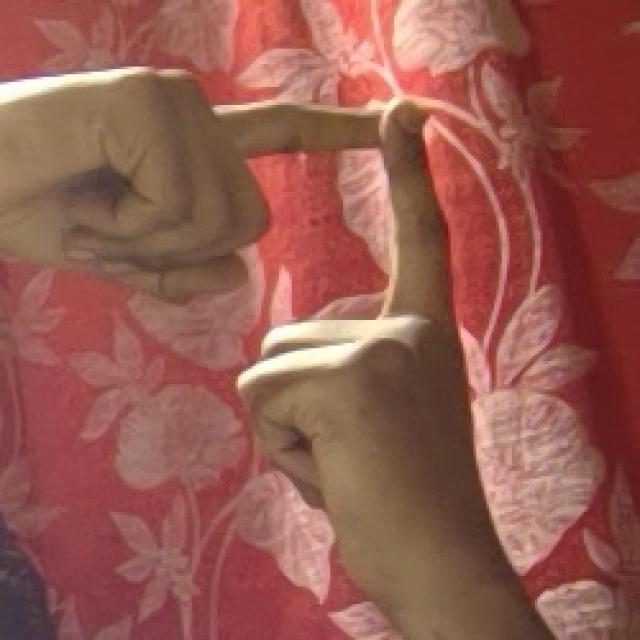Alphabet-E: (26, 55, 494, 556)
